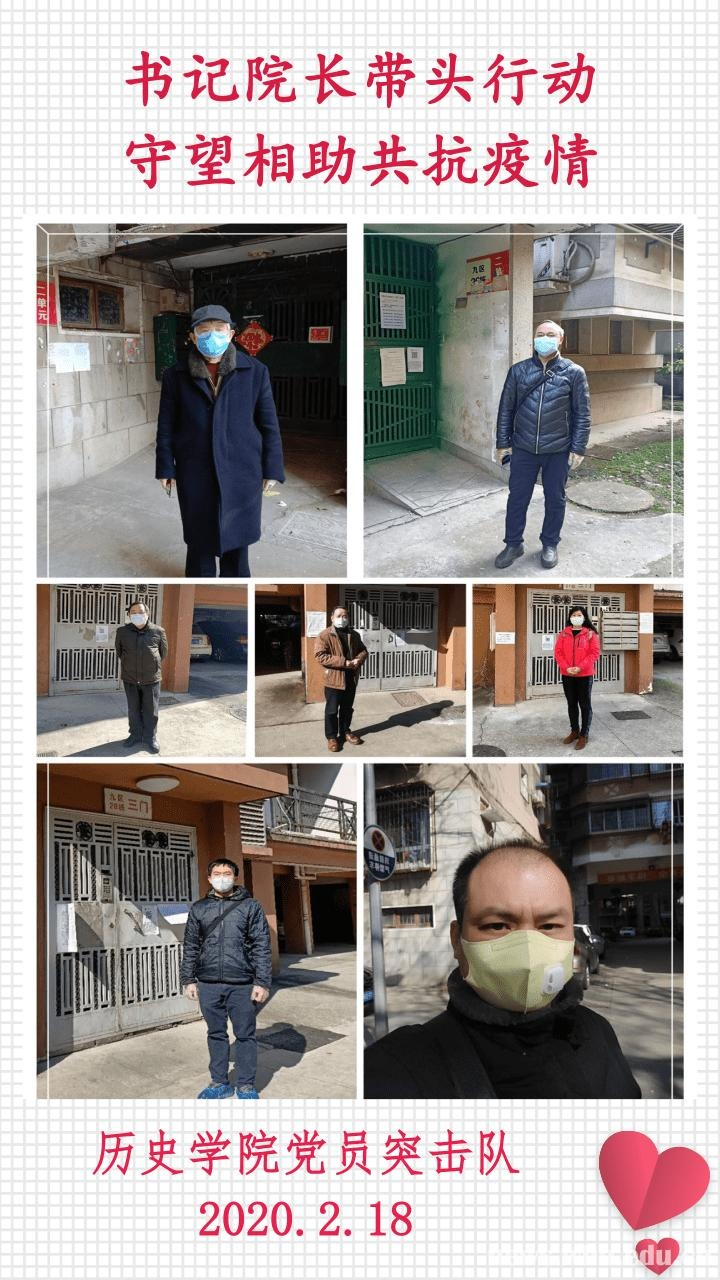correctlyWear: (448, 883, 580, 1014), (188, 319, 236, 360), (532, 327, 564, 357), (208, 867, 239, 894), (129, 607, 149, 628), (331, 610, 349, 629), (570, 611, 585, 629)
